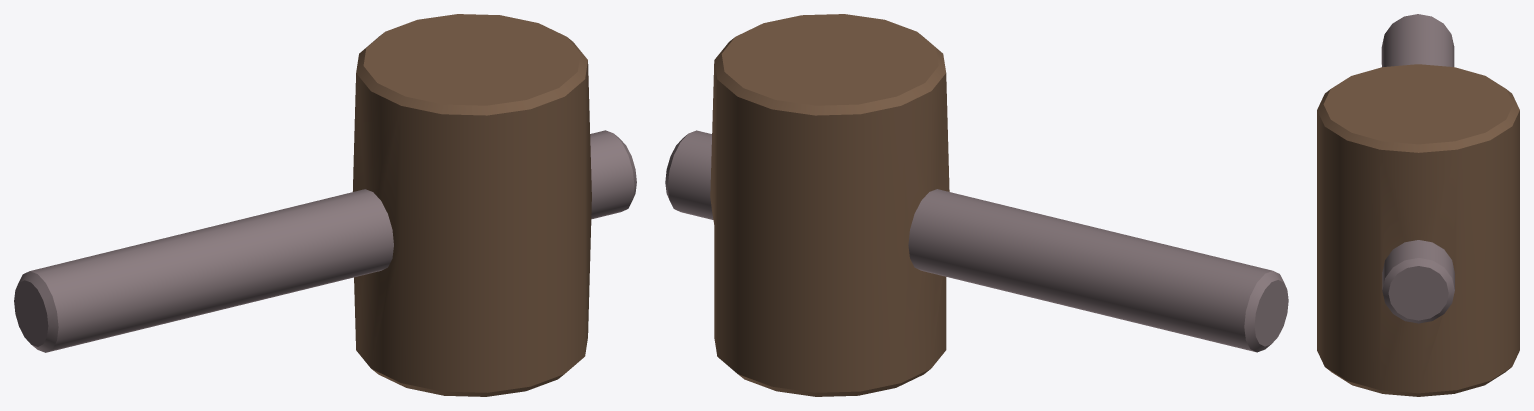
Rendered from Mallet.fbx.
3 views of the same model, side by side, from view 1: azimuth 30°, elevation 25°; view 2: azimuth 150°, elevation 25°; view 3: azimuth 270°, elevation 25° (orthographic). The views are drawn at different scales.
Parts seen in each view (by area): view 1: Circle.001; view 2: Circle.001; view 3: Circle.001.
Boxes of the visible parts, x1,y1,x2,y2 form: Circle.001: (14, 14, 636, 396); Circle.001: (665, 14, 1288, 396); Circle.001: (1317, 14, 1519, 396).
Size of the model in its own units: 146 by 69.26 by 50.33.
